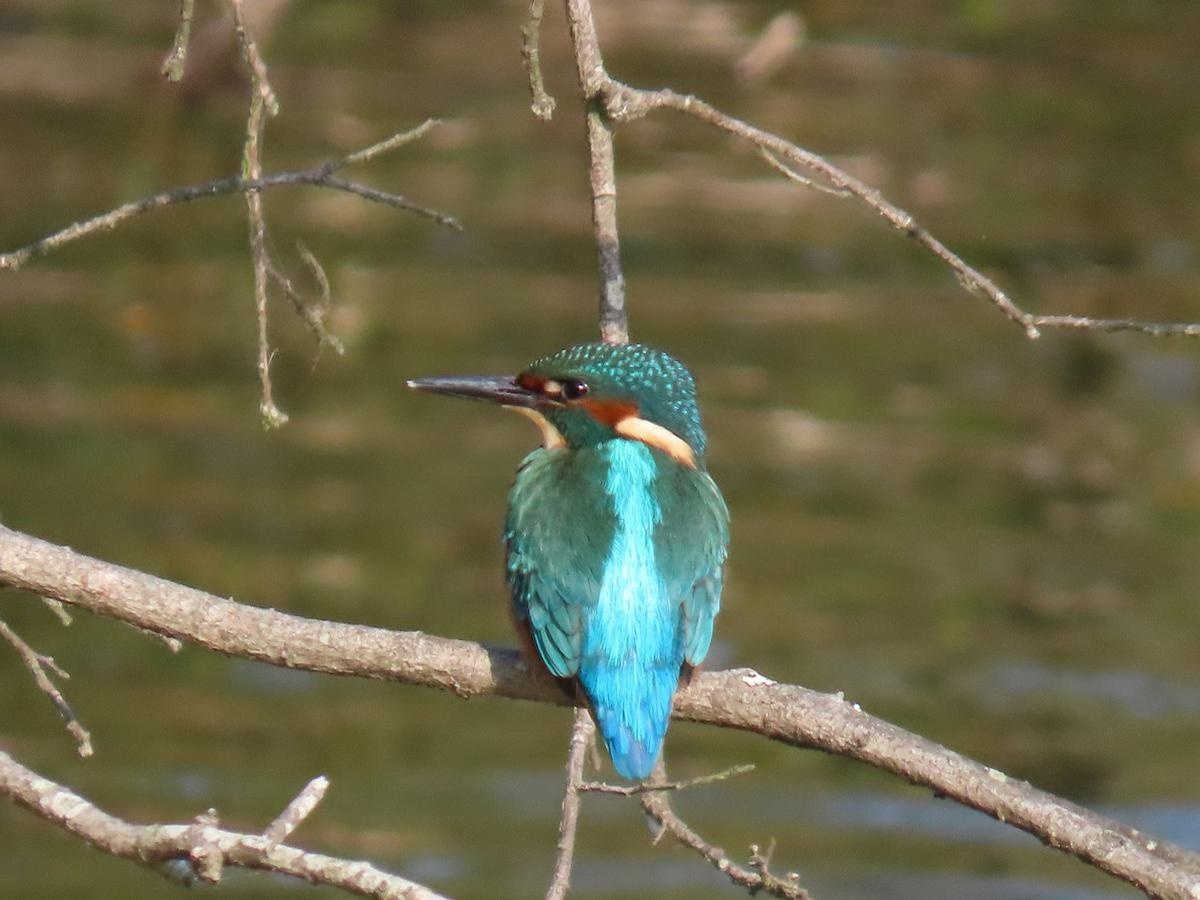kingfisher: (403, 322, 768, 787)
